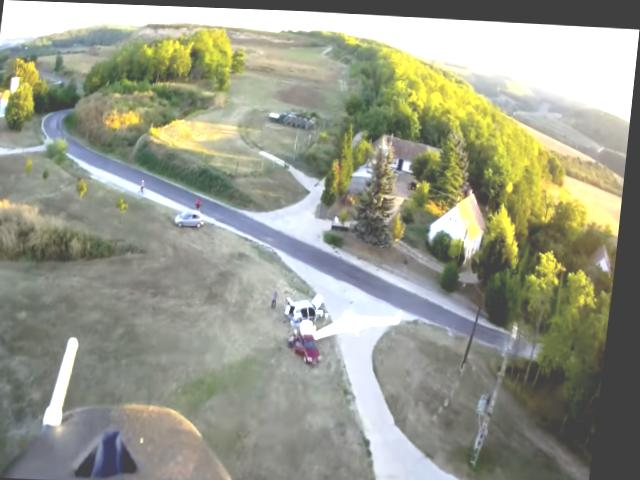plane: (318, 301, 411, 340)
